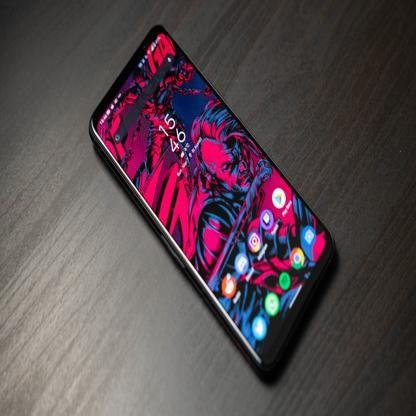not trash: (89, 27, 336, 387)
